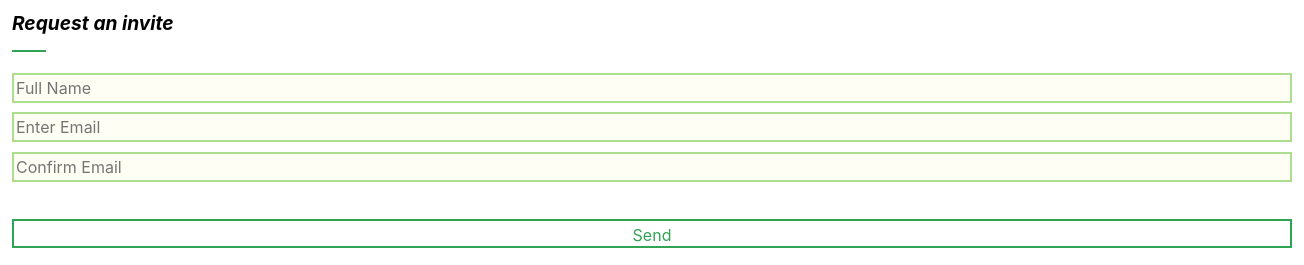
Test: prevents submission with empty values when clicking button
Click the button "Send". click: (652,234)
box: x1=12 y1=219 x2=1292 y2=248
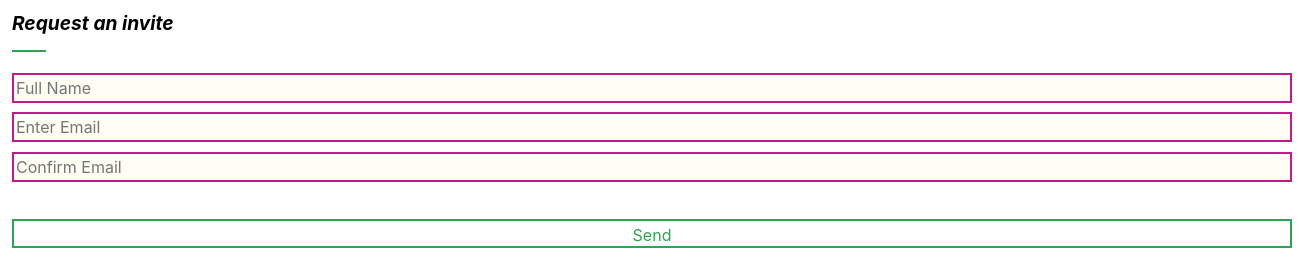
Expected: the number of fields with class "invalid" is 3, x1=12 y1=73 x2=1292 y2=103; x1=12 y1=112 x2=1292 y2=142; x1=12 y1=152 x2=1292 y2=182
